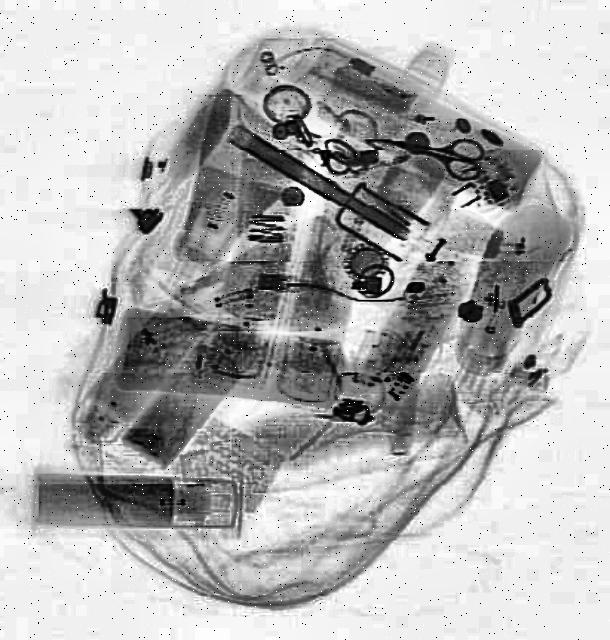Scissors: (394, 122, 494, 188)
